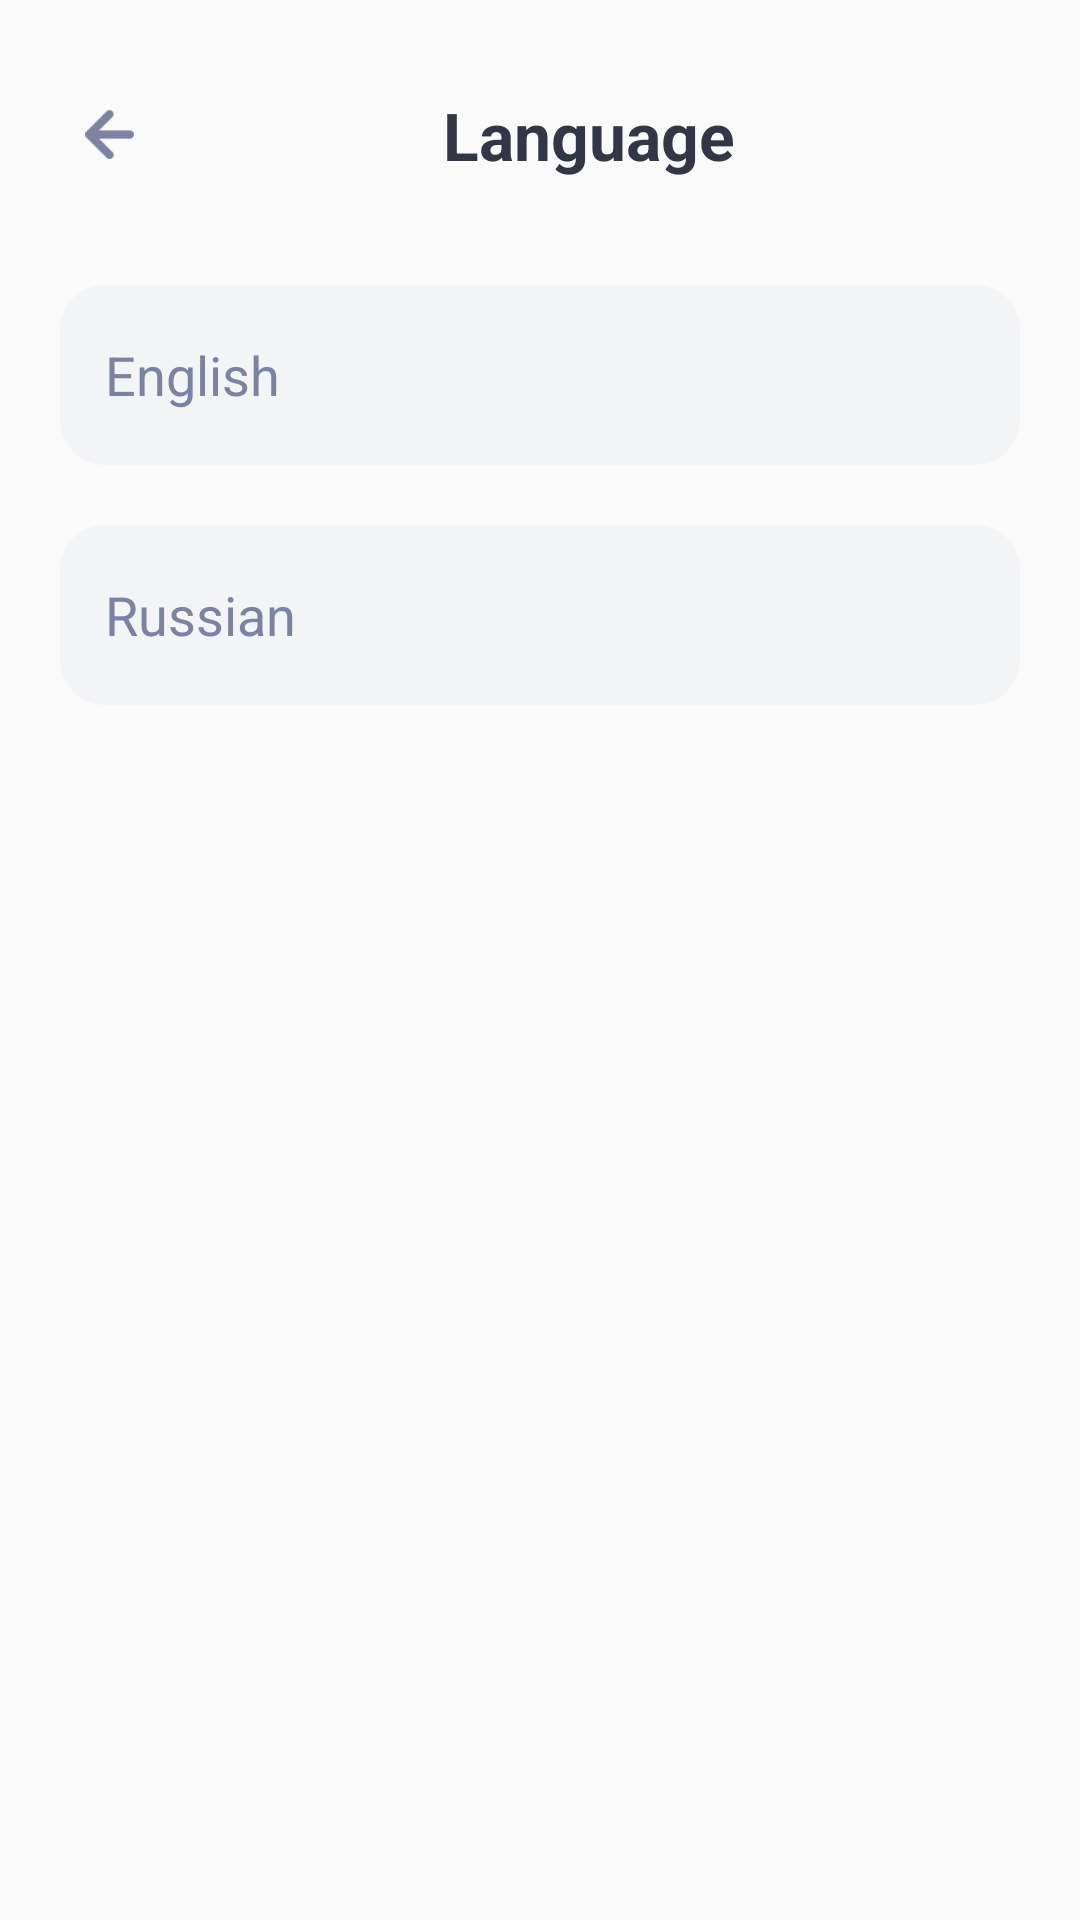

Point at icon controls on the screen. Image size 1080x1920, points as (x=x, y=y).
back: (x=109, y=134)
